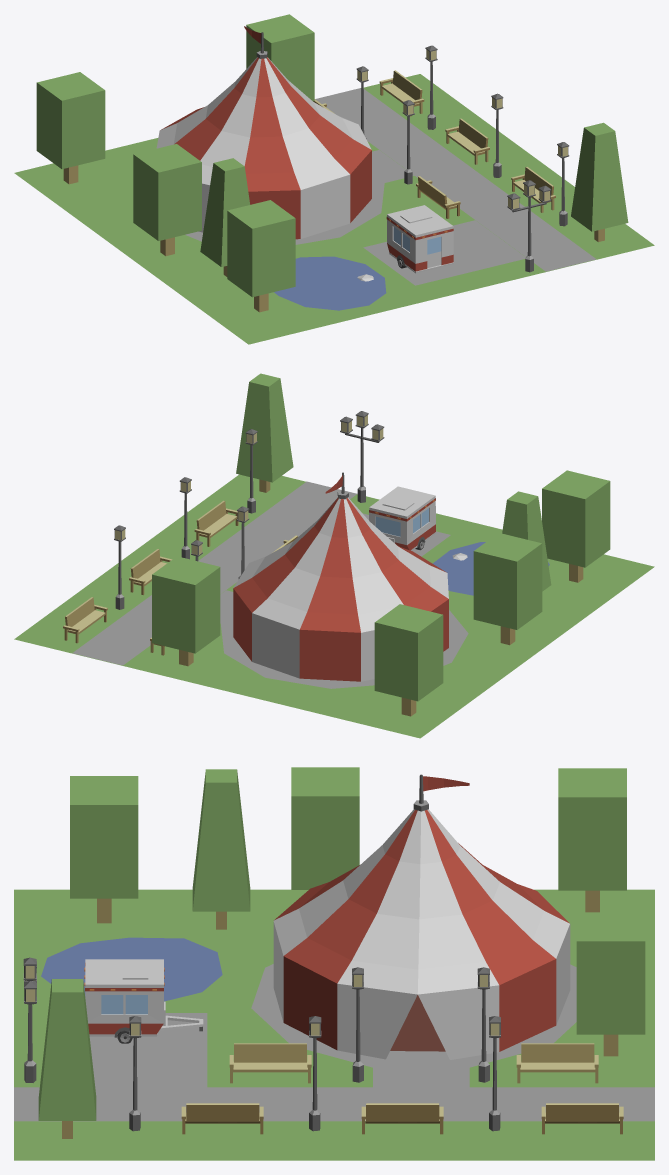
The model's file is park_007.glb.
3 views of the same model, one above another, from view 1: azimuth 30°, elevation 25°; view 2: azimuth 150°, elevation 25°; view 3: azimuth 270°, elevation 25° (orthographic). The views are drawn at different scales.
Parts seen in each view (by area): view 1: park_007; view 2: park_007; view 3: park_007.
Boxes of the visible parts, x1,y1,x2,y2 form: park_007: (14, 14, 654, 344); park_007: (14, 373, 654, 738); park_007: (14, 767, 654, 1160).
Bounding box in the file's own units: 16 × 6.22 × 16.
1 material, 1 textured.
